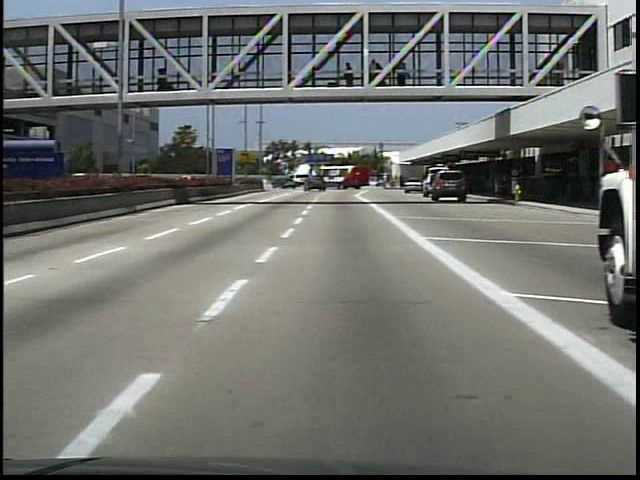person: (489, 168, 507, 200), (340, 58, 358, 90), (155, 64, 174, 93)
